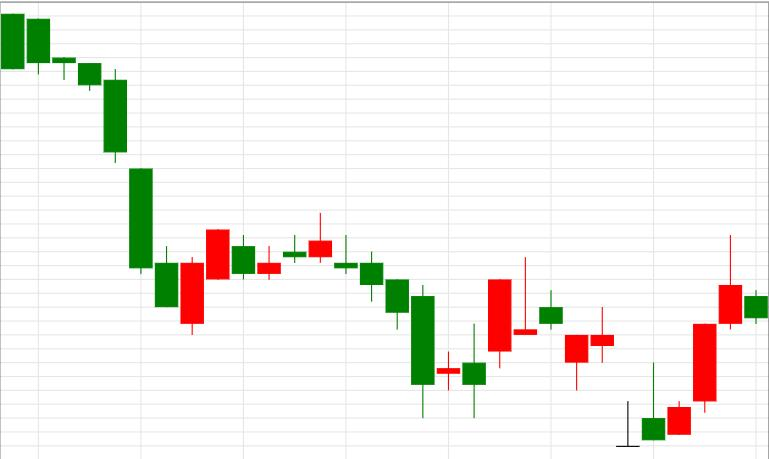shooting_star_fall: (641, 235, 743, 441)
